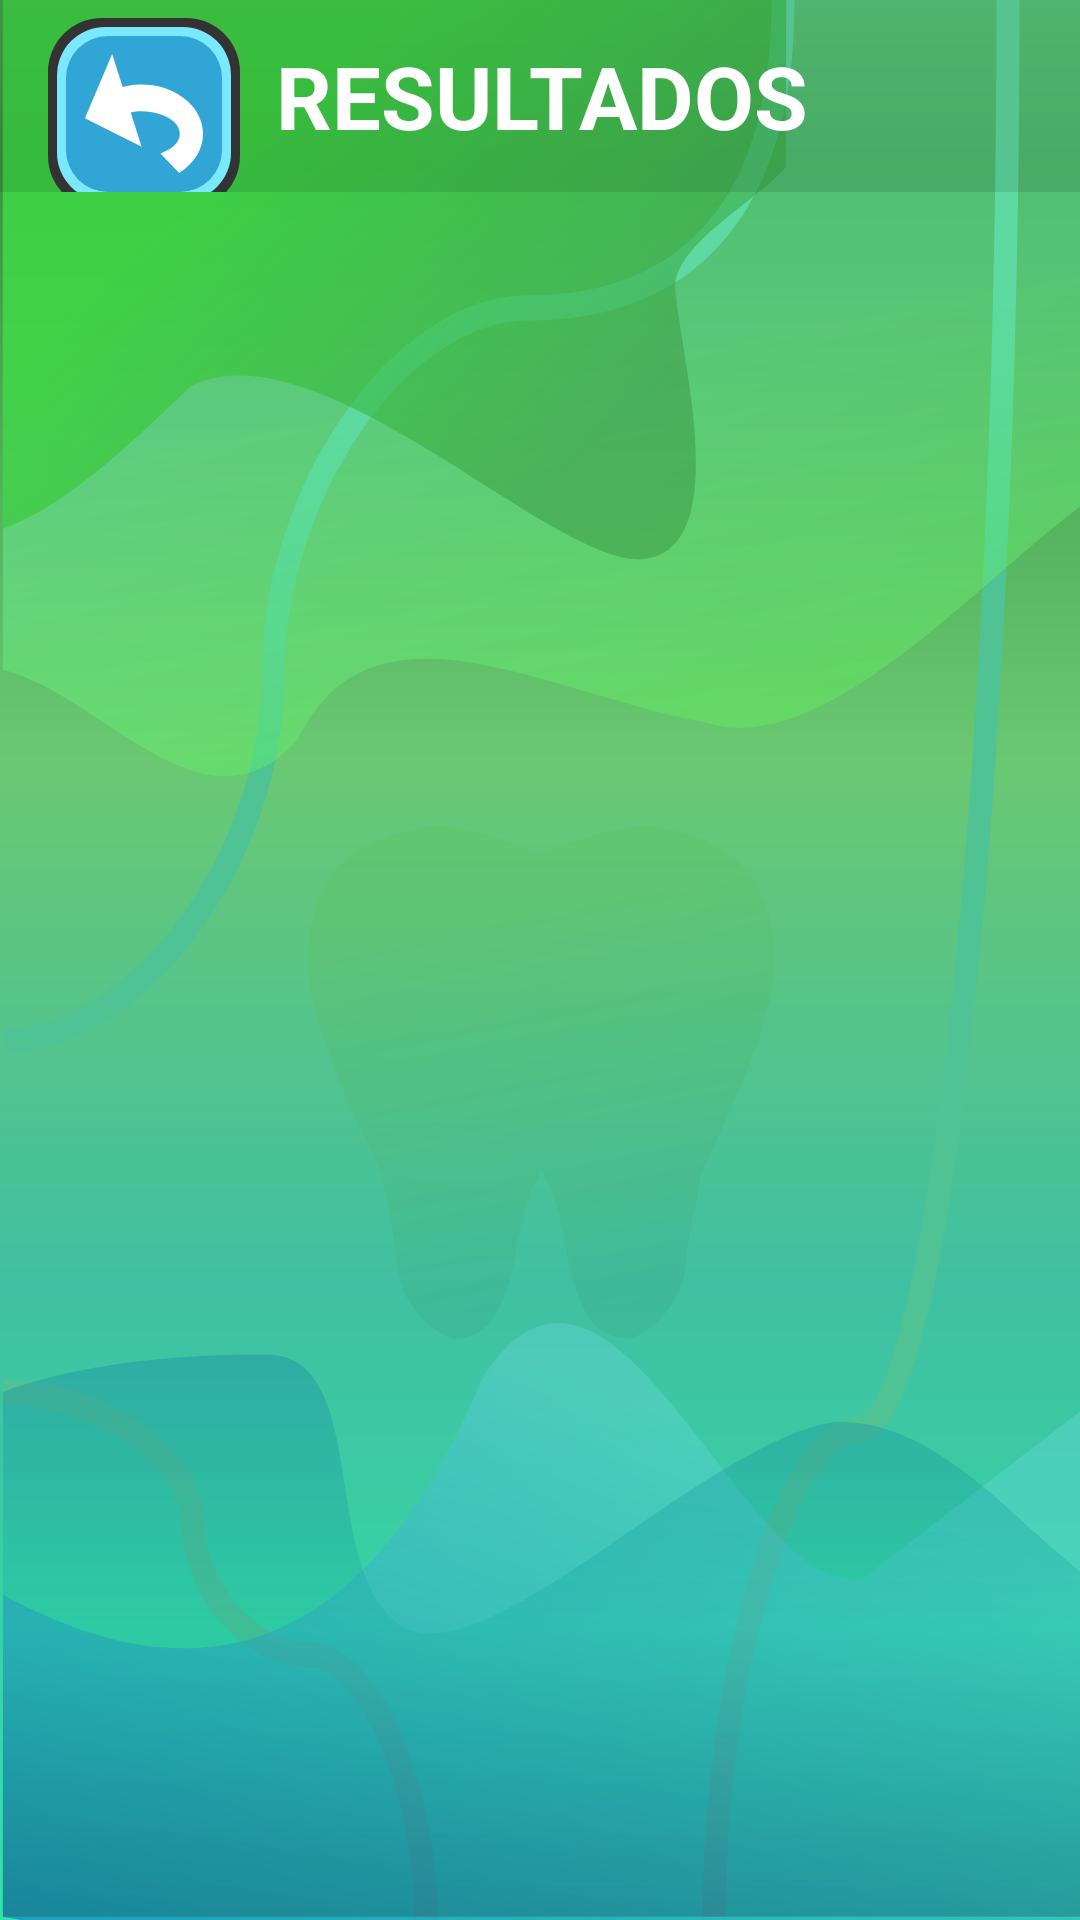

Point at icon controls on the screen. Image size 1080 × 1920, points as [x,y].
return: [144,105]
